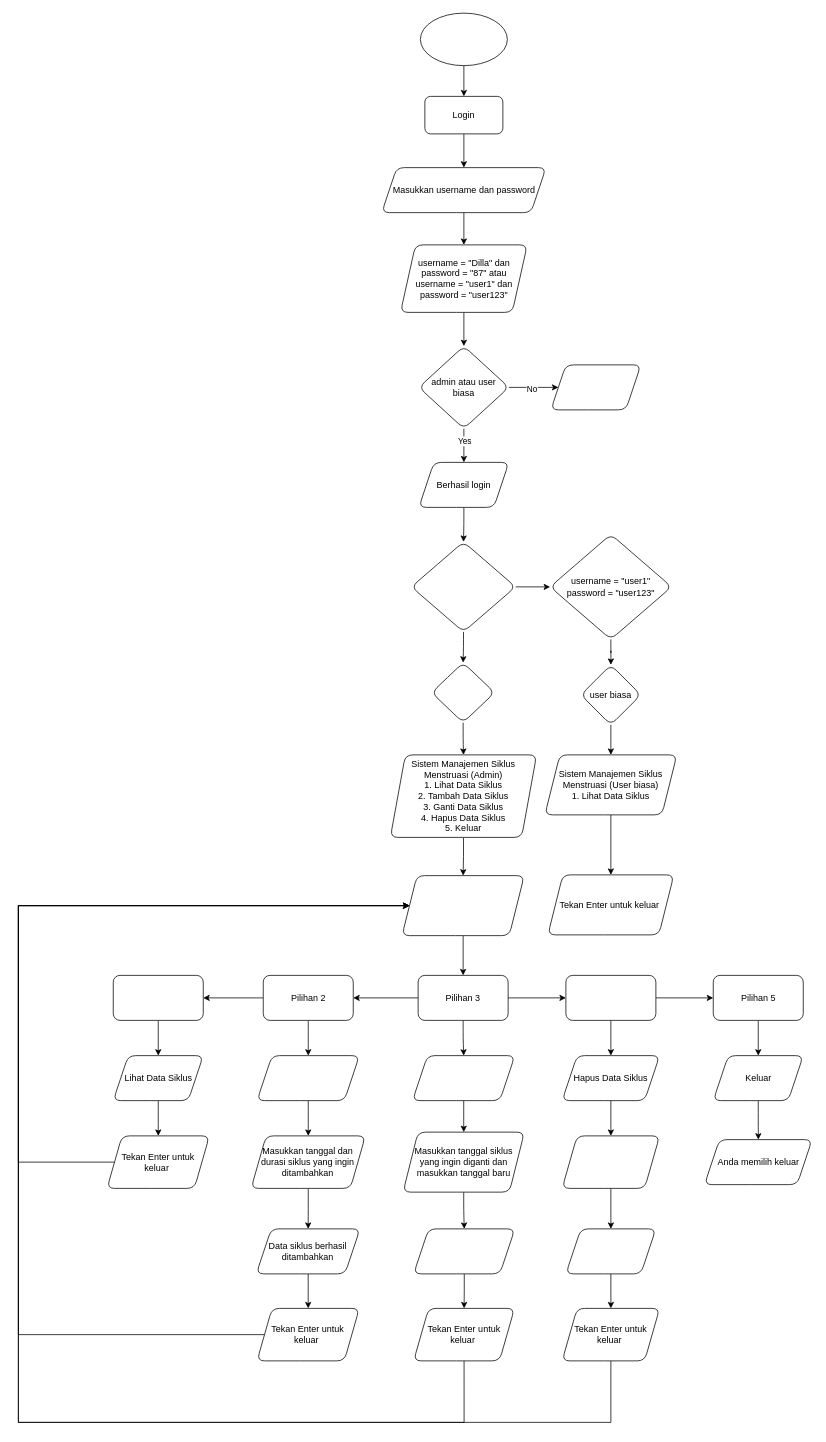
The diagram is 826 pixels wide and 1442 high, and some of its shapes have lost their labels. Here are the shapes that lost their labels. From the top down, the box of each, then its label:
(420, 12, 507, 66): Mulai
(550, 364, 641, 410): Login gagal
(411, 541, 516, 632): username = "Dilla" password = "87"
(431, 662, 495, 723): admin
(401, 875, 524, 936): Masukkan pilihan menu
(112, 975, 203, 1020): Pilihan 1
(565, 975, 656, 1020): Pilihan 4
(256, 1055, 359, 1101): Tambah Data Siklus
(412, 1055, 515, 1101): Ganti Data Siklus
(561, 1135, 660, 1188): Masukkan tanggal siklus yang ingin dihapus
(413, 1228, 515, 1274): Data siklus berhasil diperbarui
(565, 1228, 656, 1274): Data siklus telah dihapus
